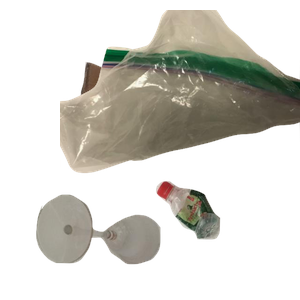cardboard: (75, 59, 237, 176)
glass: (34, 192, 187, 300)
plastic: (153, 178, 300, 300)
trash: (60, 10, 300, 176)
